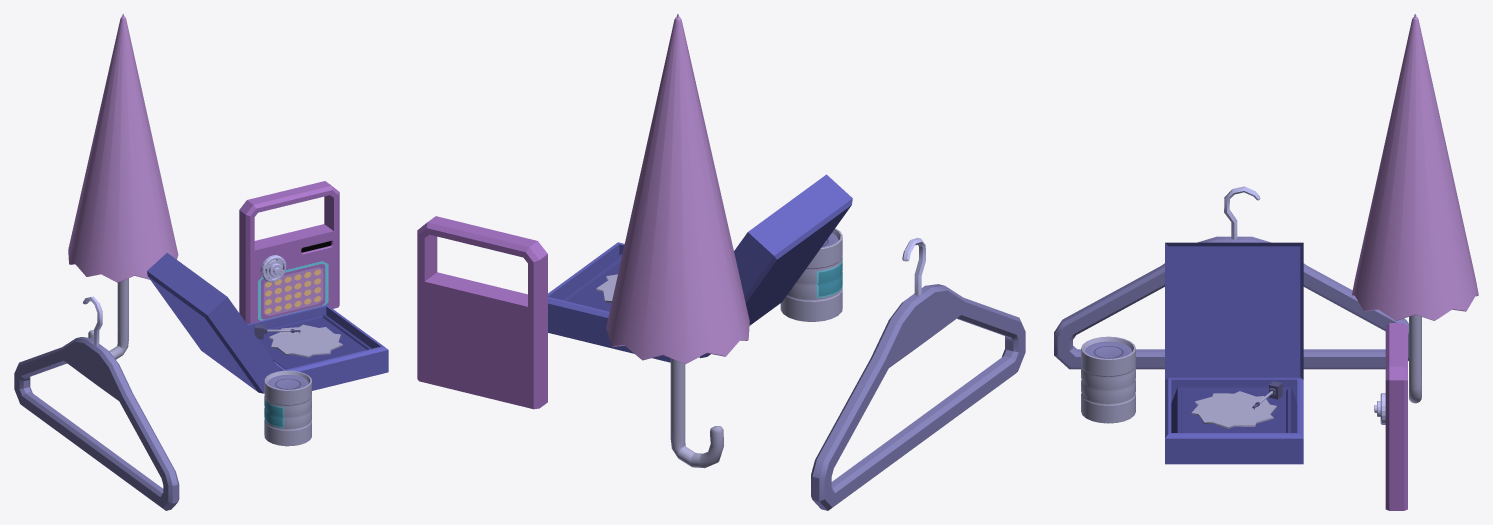
The model's file is lil_things_texture.fbx.
3 renders of one model, left to right at view 1: azimuth 30°, elevation 25°; view 2: azimuth 150°, elevation 25°; view 3: azimuth 270°, elevation 25°, orthographic. The views are drawn at different scales.
Visible parts, largest first — view 1: pCylinder6, pCylinder11, pCube3, hangerr, can; view 2: pCylinder6, pCube3, hangerr, pCylinder11, can; view 3: pCylinder11, pCylinder6, hangerr, pCube3, can.
Boxes of the visible parts, x1,y1,x2,y2 form: pCylinder6: (68, 14, 178, 359); pCylinder11: (147, 253, 388, 393); pCube3: (239, 181, 339, 323); hangerr: (14, 296, 179, 510); can: (264, 370, 311, 446); pCylinder6: (606, 14, 749, 468); pCube3: (417, 216, 547, 409); hangerr: (811, 238, 1025, 510); pCylinder11: (548, 174, 852, 362); can: (780, 228, 842, 321); pCylinder11: (1165, 242, 1303, 464); pCylinder6: (1352, 14, 1478, 403); hangerr: (1054, 186, 1408, 369); pCube3: (1374, 323, 1407, 510); can: (1081, 336, 1135, 423).
Bounding box in the file's own units: 18.05 × 19.67 × 18.35.
